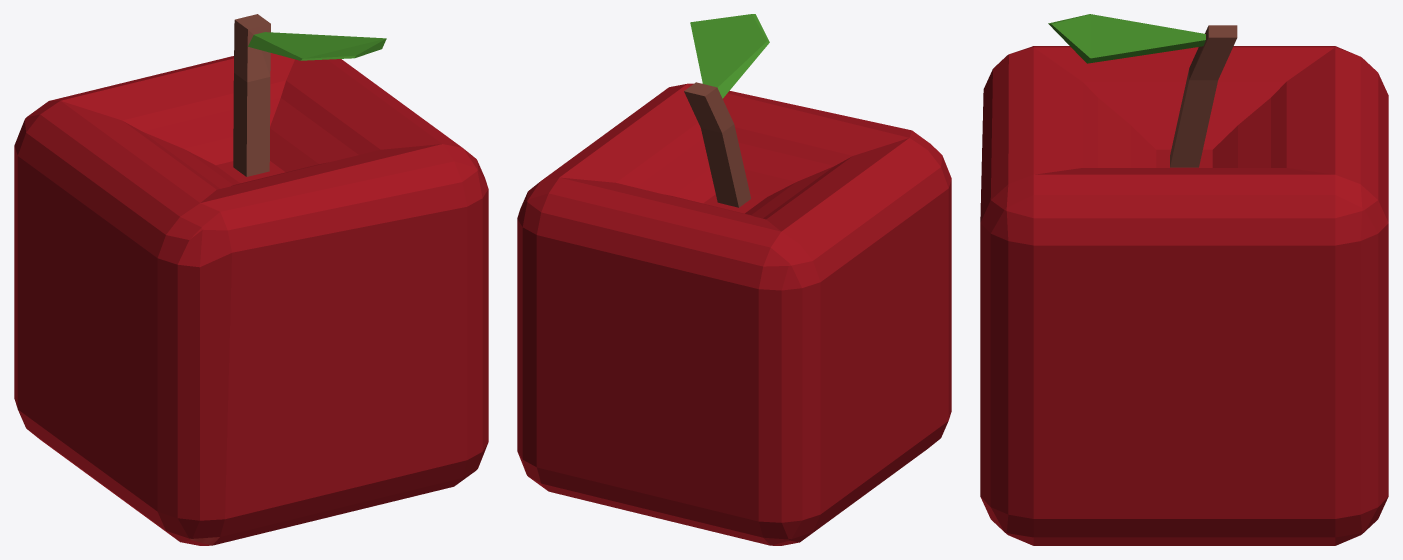
Rendered from Apple.fbx.
The picture shows the model from 3 angles, left to right: view 1: azimuth 30°, elevation 25°; view 2: azimuth 150°, elevation 25°; view 3: azimuth 270°, elevation 25°; orthographic projection. The views are drawn at different scales.
Visible parts, largest first — view 1: Cube; view 2: Cube; view 3: Cube.
Part boxes in pixels (<box>): Cube: <box>14,14,488,545</box>; Cube: <box>517,14,951,545</box>; Cube: <box>980,14,1388,545</box>.
Size of the model in its own units: 200 by 259 by 200.
